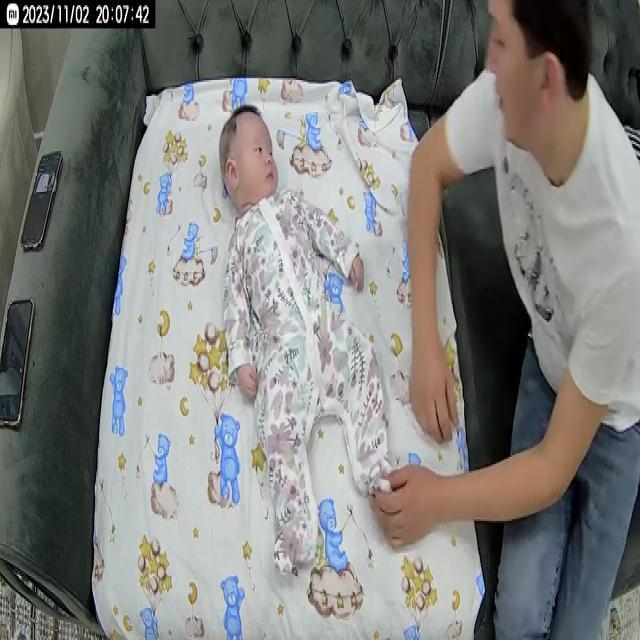baby: (216, 100, 404, 576)
